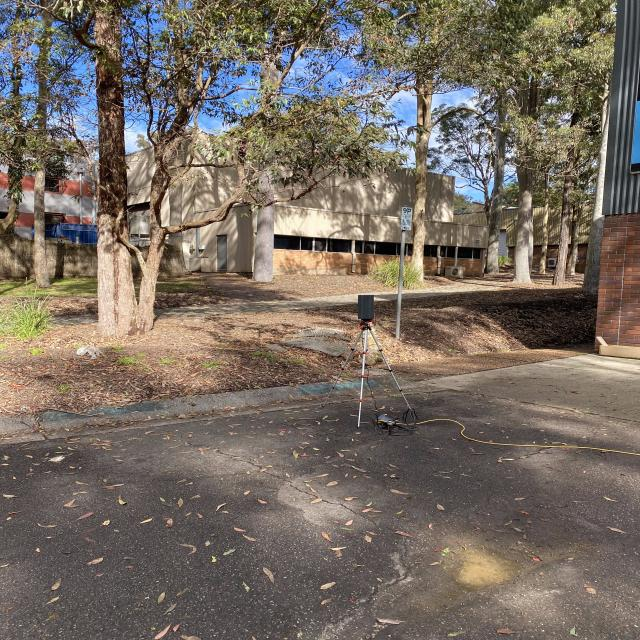matrix: (353, 291, 383, 322)
